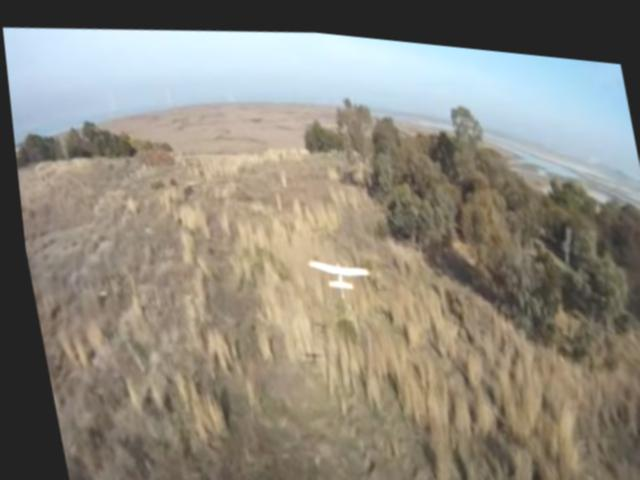uav: (296, 240, 375, 307)
